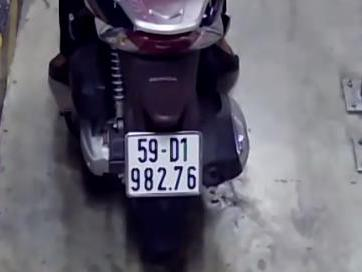num_plate: (124, 130, 202, 198)
